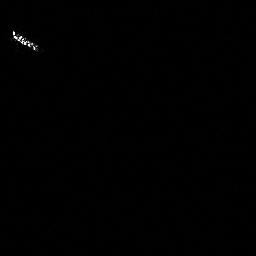ship: (11, 29, 41, 53)
